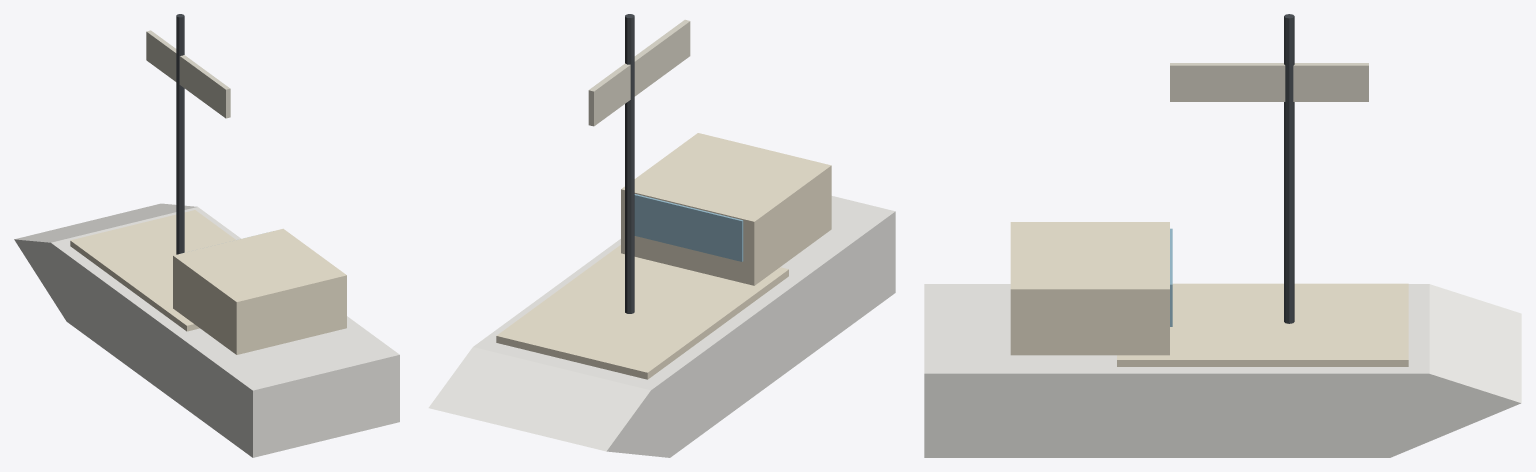
File: marine.yacht.glb
The picture shows the model from 3 angles, left to right: view 1: azimuth 30°, elevation 25°; view 2: azimuth 150°, elevation 25°; view 3: azimuth 270°, elevation 25°; orthographic projection. The views are drawn at different scales.
Visible parts, largest first — view 1: marine.yacht; view 2: marine.yacht; view 3: marine.yacht.
Part boxes in pixels (x1,y1,x2,y2): marine.yacht: (14,14,399,457); marine.yacht: (428,14,895,457); marine.yacht: (924,14,1521,457).
Bounding box in the file's own units: 1.6 × 3.3 × 4.5.
